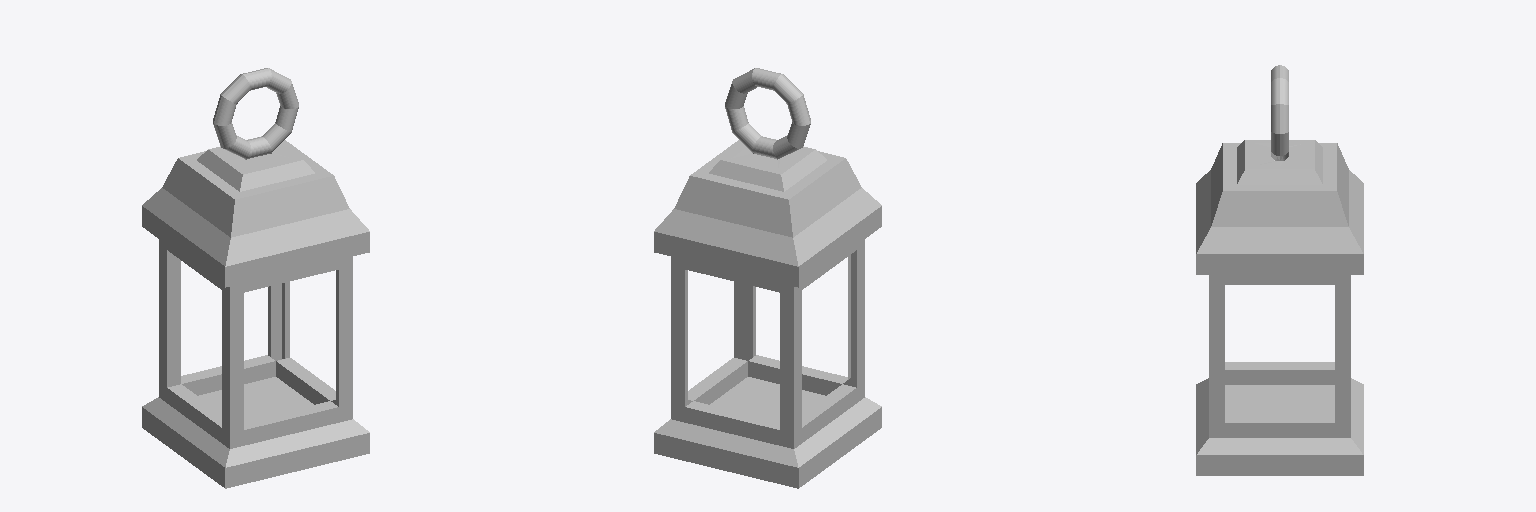
File: lantern.obj
3 renders of one model, left to right at view 1: azimuth 30°, elevation 25°; view 2: azimuth 150°, elevation 25°; view 3: azimuth 270°, elevation 25°, orthographic.
Visible parts, largest first — view 1: Flashlight_Metal; view 2: Flashlight_Metal; view 3: Flashlight_Metal.
Part boxes in pixels (left/top/right/bottom): Flashlight_Metal: left=142, top=68, right=369, bottom=488; Flashlight_Metal: left=654, top=68, right=881, bottom=488; Flashlight_Metal: left=1196, top=65, right=1363, bottom=475.
Bounding box in the file's own units: 0.2052 × 0.4997 × 0.2052.